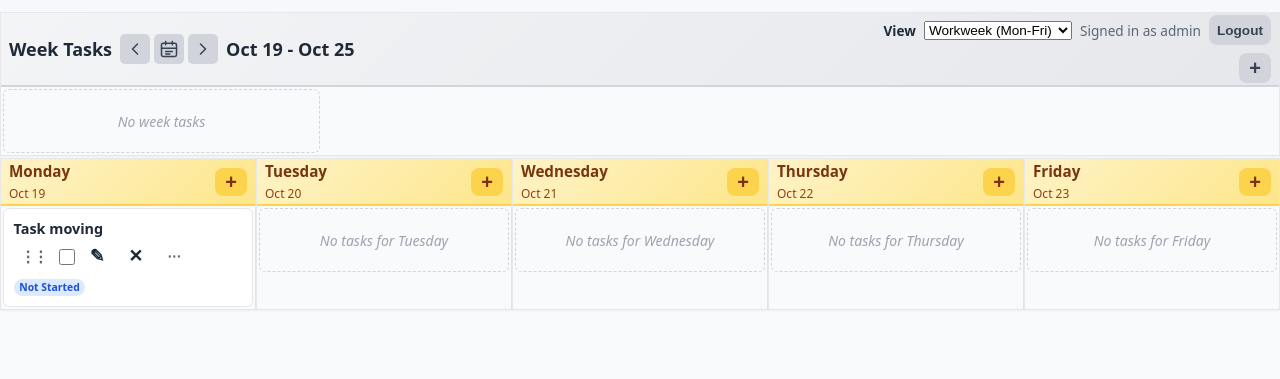
Scenario: BoardPage ordering bug regressions › shows a cross-week pending move's success snapshot while the destination initial GET is delayed, and ignores that late GET
The image size is (1280, 379).
Click the button named "More actions for Task moving" at (174, 257), box [158,244,190,270]
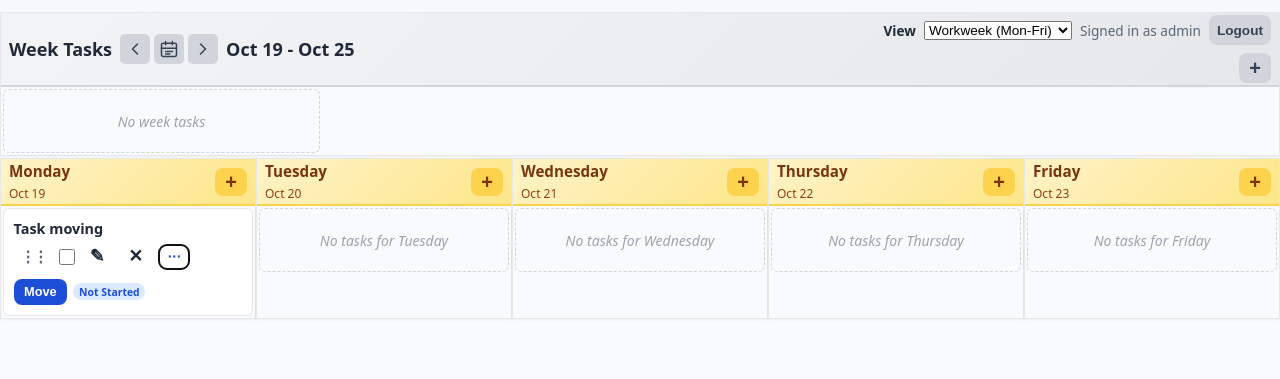
Click the menu item "Move" at (40, 292), box [14,279,67,305]
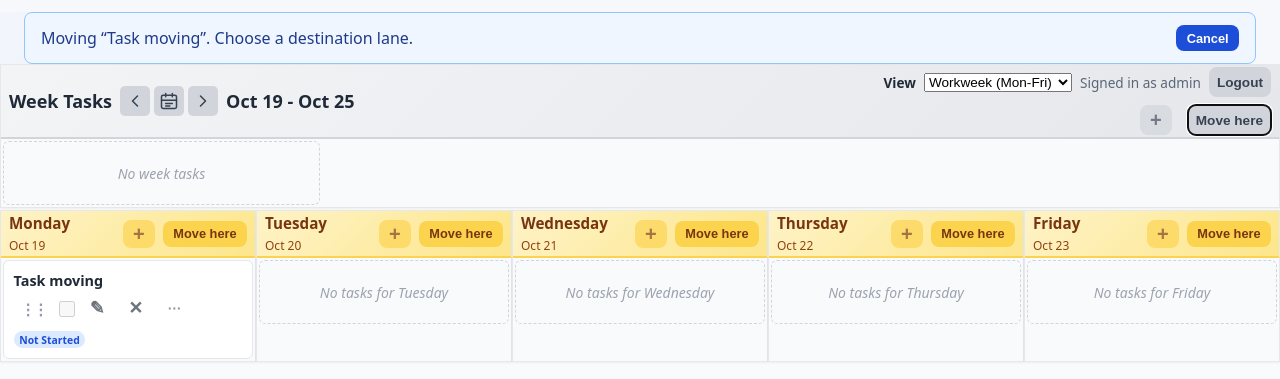
Click the button named "Go to next week" at (203, 101), box [188,86,218,116]
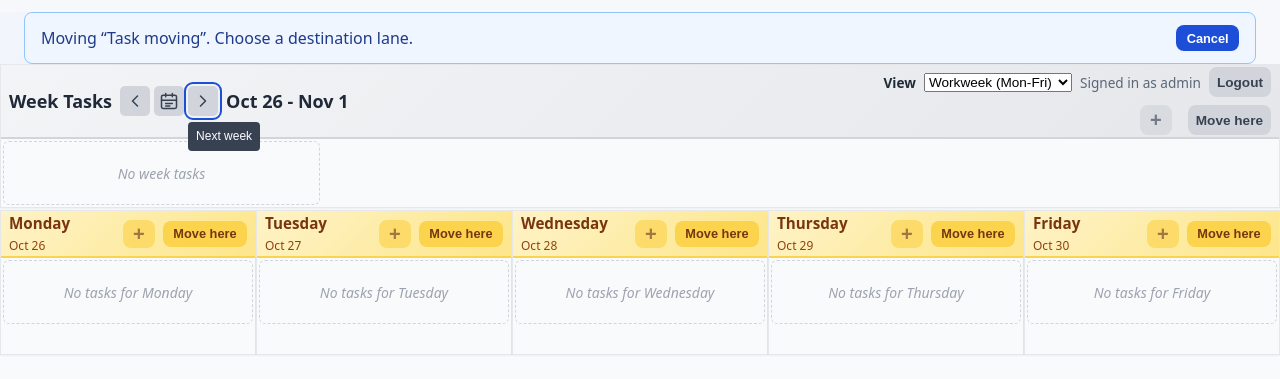
Click the button with aria-label "Move here to shared week" at (1229, 120), box [1188,105,1271,135]
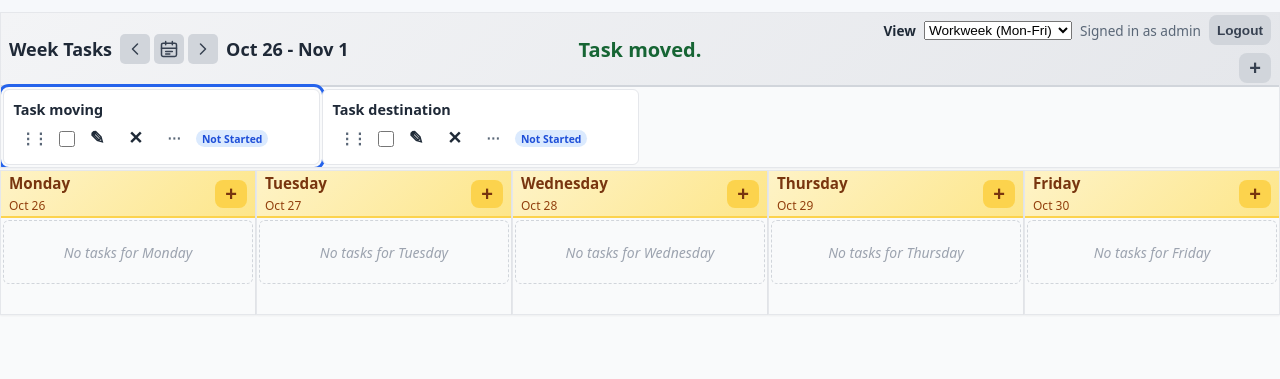
Expected: the element named "Week tasks" is shown, [0,12,1279,168]
Result: the message reads "Task moved." at [579,36,701,62]
Result: the element showing "Task destination ⋮⋮ ✎ ✕ ⋯ Not Started" is shown at [322,89,639,165]
